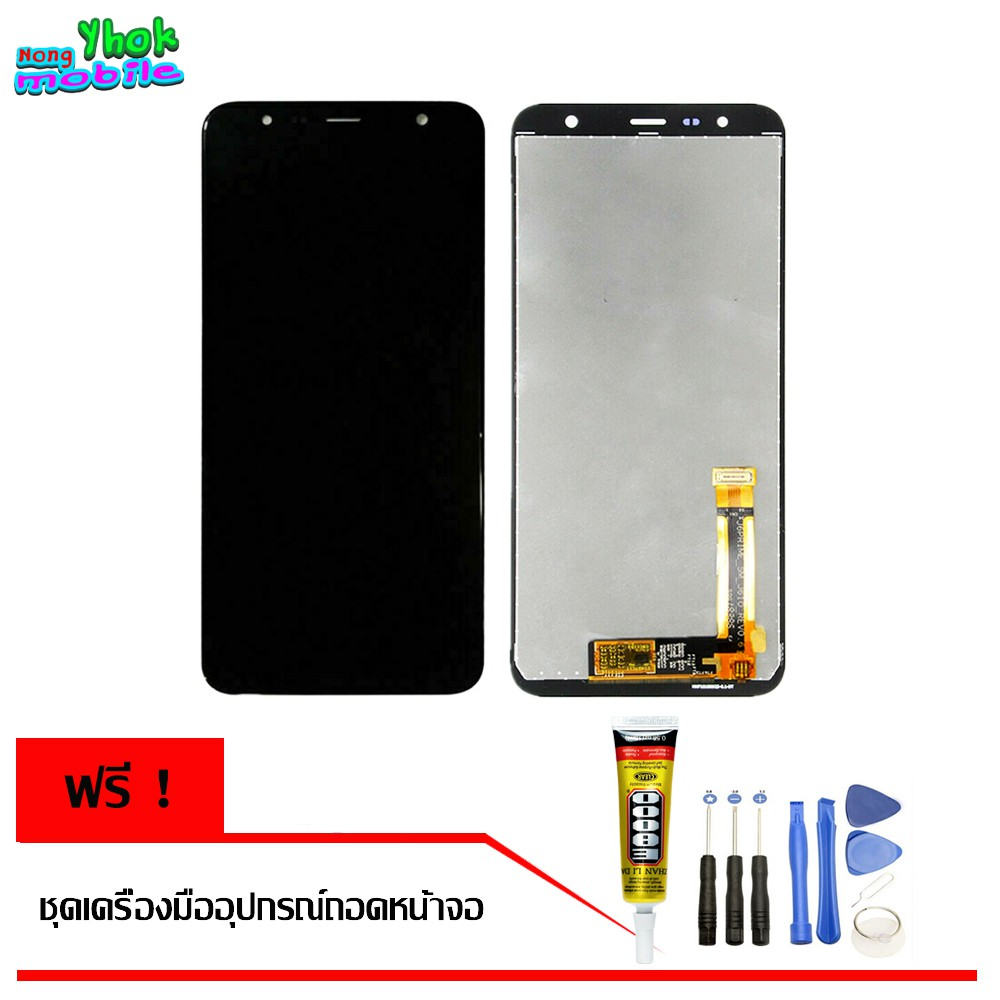Phone: (197, 98, 491, 702), (508, 98, 792, 699)
